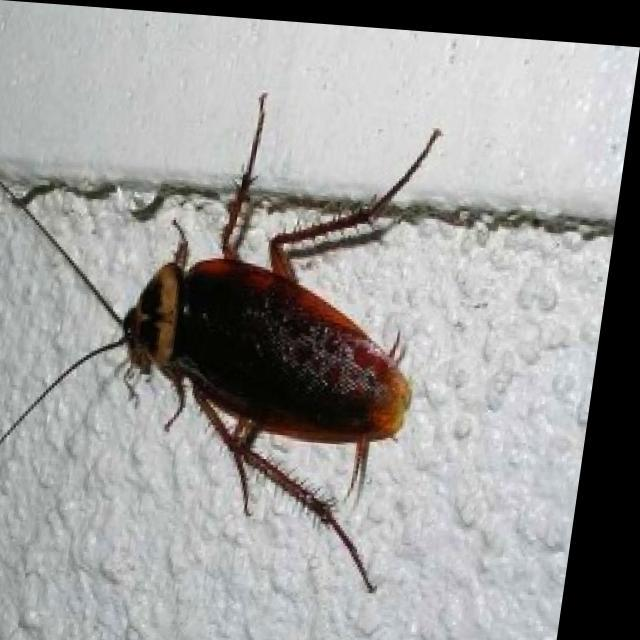cockroach: (2, 89, 451, 597)
